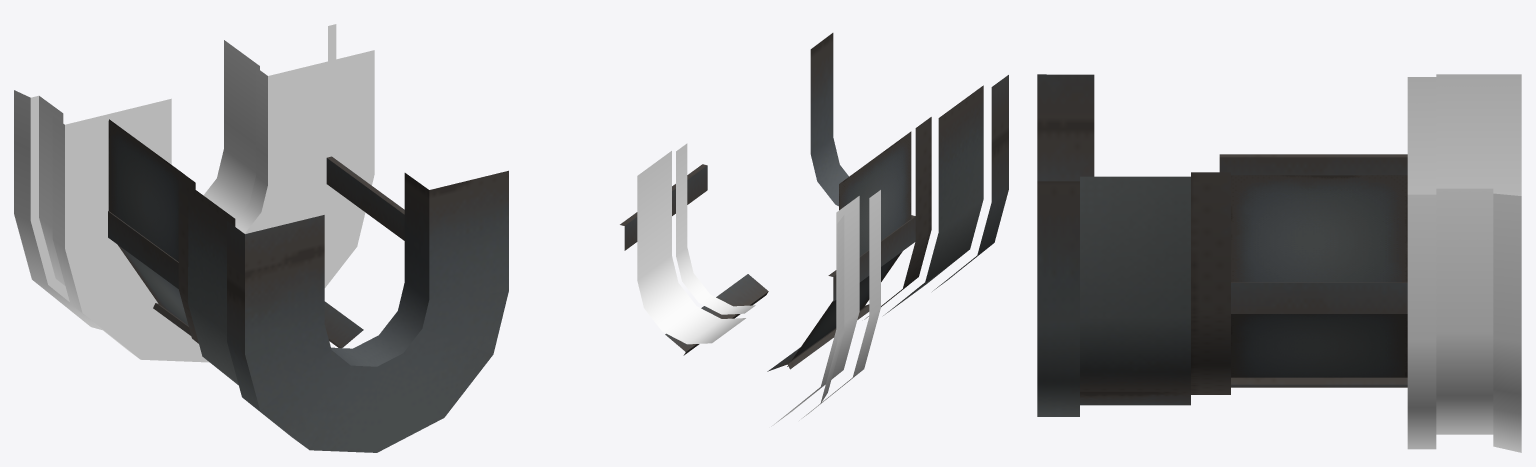
File: part boxoffice_clockwork_01.glb
3 views of the same model, side by side, from view 1: azimuth 30°, elevation 25°; view 2: azimuth 150°, elevation 25°; view 3: azimuth 270°, elevation 25° (orthographic). The views are drawn at different scales.
Parts seen in each view (by area): view 1: coliseum.part_boxoffice_clockwork_base-Mesh[1], coliseum.part_boxoffice_clockwork_base-Mesh[2], coliseum.part_boxoffice_clockwork_base-Mesh[0]; view 2: coliseum.part_boxoffice_clockwork_base-Mesh[1], coliseum.part_boxoffice_clockwork_base-Mesh[2], coliseum.part_boxoffice_clockwork_base-Mesh[0]; view 3: coliseum.part_boxoffice_clockwork_base-Mesh[1], coliseum.part_boxoffice_clockwork_base-Mesh[2], coliseum.part_boxoffice_clockwork_base-Mesh[0].
Part boxes in pixels (left/top/right/bottom): coliseum.part_boxoffice_clockwork_base-Mesh[1]: left=108, top=156, right=508, bottom=452; coliseum.part_boxoffice_clockwork_base-Mesh[2]: left=14, top=24, right=374, bottom=362; coliseum.part_boxoffice_clockwork_base-Mesh[0]: left=108, top=119, right=188, bottom=325; coliseum.part_boxoffice_clockwork_base-Mesh[1]: left=620, top=33, right=1008, bottom=371; coliseum.part_boxoffice_clockwork_base-Mesh[2]: left=637, top=143, right=880, bottom=426; coliseum.part_boxoffice_clockwork_base-Mesh[0]: left=787, top=131, right=911, bottom=366; coliseum.part_boxoffice_clockwork_base-Mesh[1]: left=1037, top=74, right=1407, bottom=416; coliseum.part_boxoffice_clockwork_base-Mesh[2]: left=1407, top=74, right=1521, bottom=452; coliseum.part_boxoffice_clockwork_base-Mesh[0]: left=1231, top=175, right=1407, bottom=377.
Size of the model in its own units: 3.01 by 2.54 by 3.4.
2 materials, 1 textured.
